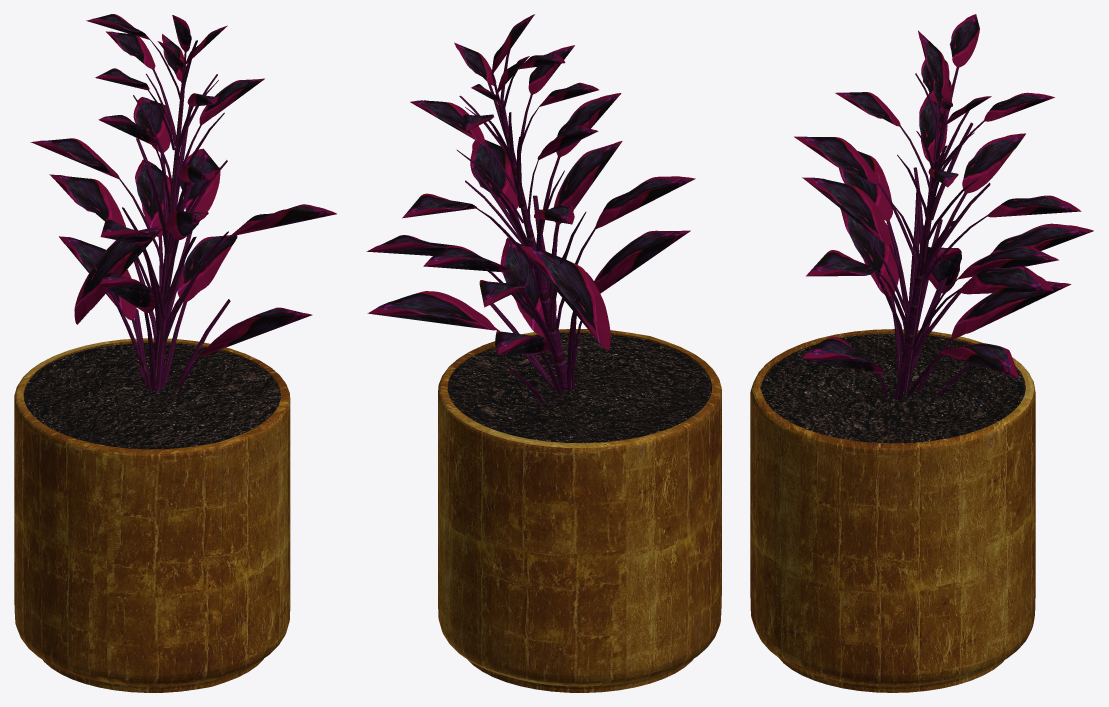
The model's file is rough-finish-jar.obj.
The picture shows the model from 3 angles, left to right: view 1: azimuth 30°, elevation 25°; view 2: azimuth 150°, elevation 25°; view 3: azimuth 270°, elevation 25°; orthographic projection. The views are drawn at different scales.
Parts seen in each view (by area): view 1: Vase_71; view 2: Vase_71; view 3: Vase_71.
Part boxes in pixels (bbox=[...]): Vase_71: bbox=[14, 14, 336, 692]; Vase_71: bbox=[366, 14, 721, 692]; Vase_71: bbox=[750, 14, 1093, 692].
Size of the model in its own units: 40 by 87.94 by 43.69.
4 materials, 4 textured.
